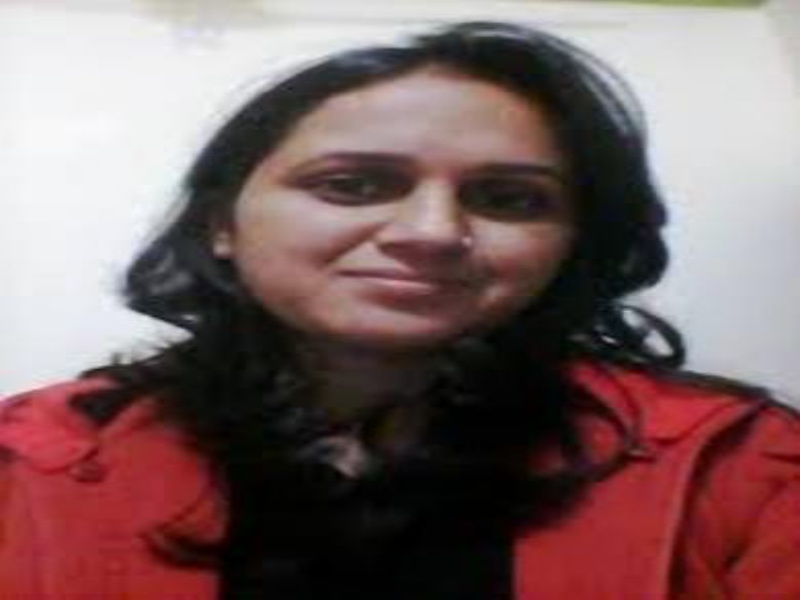TsisyArotava: (201, 46, 592, 371)
